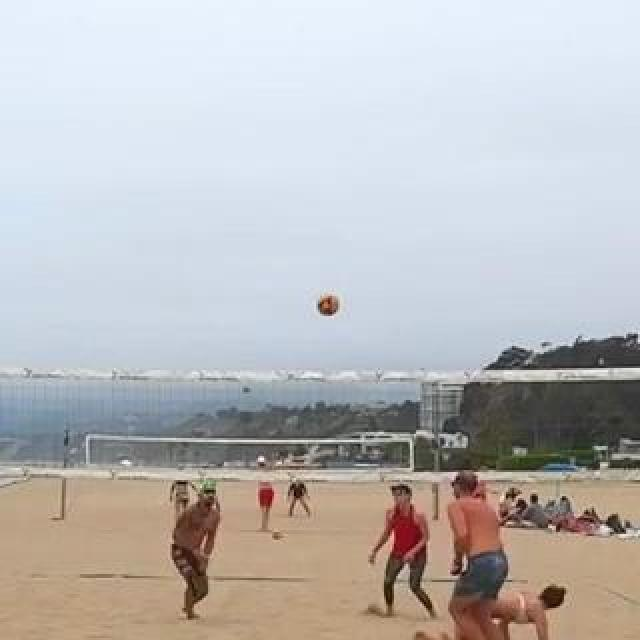volleyball: (319, 293, 339, 317)
